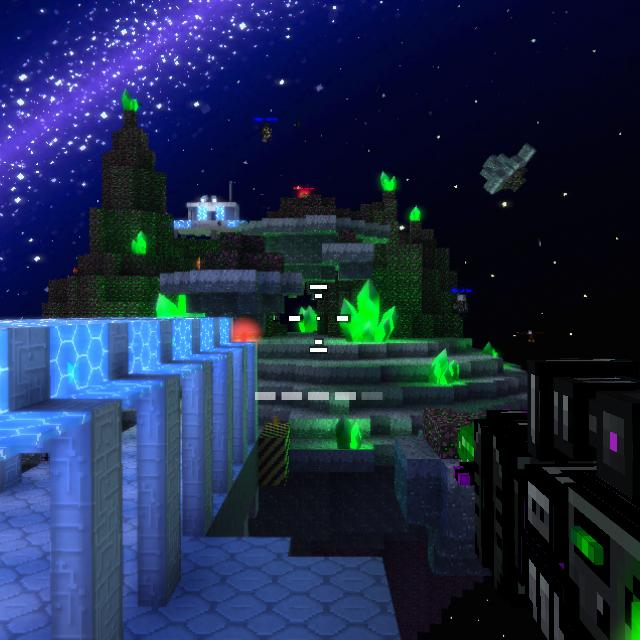Enemy: (301, 193, 308, 198)
